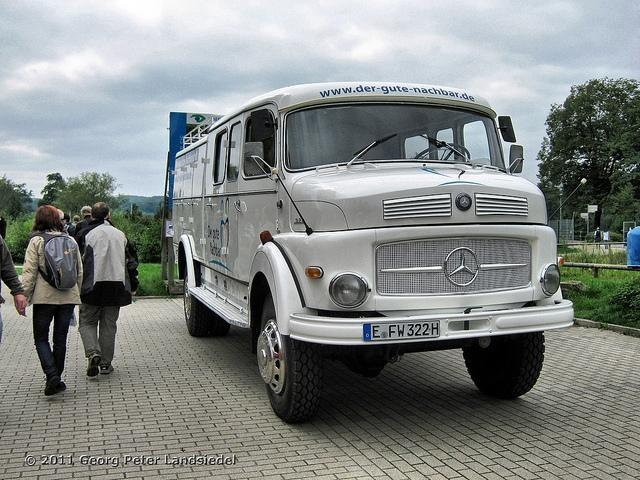truck: (172, 90, 576, 428)
